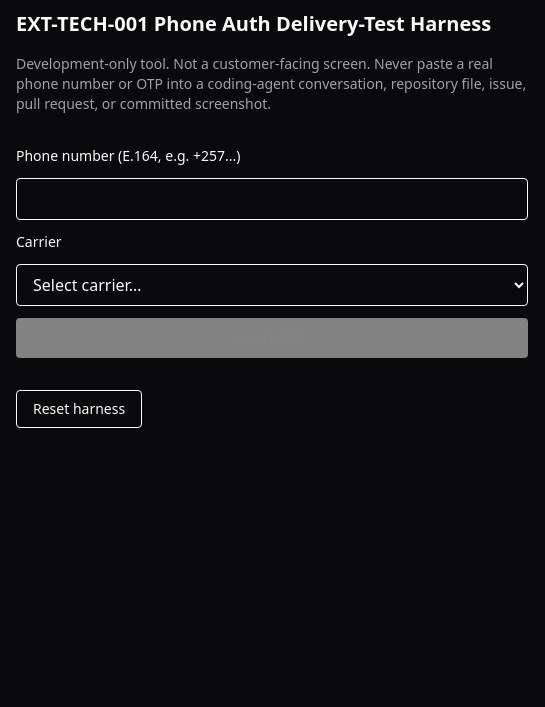
Test: PhoneAuthHarnessPage › masking › displays only a masked form of the number after submission, never the raw value again
Type "+25779123456" into the field labelled "Phone number (E.164, e.g. +257...)". click: (272, 199)
box: [16,178,528,220]
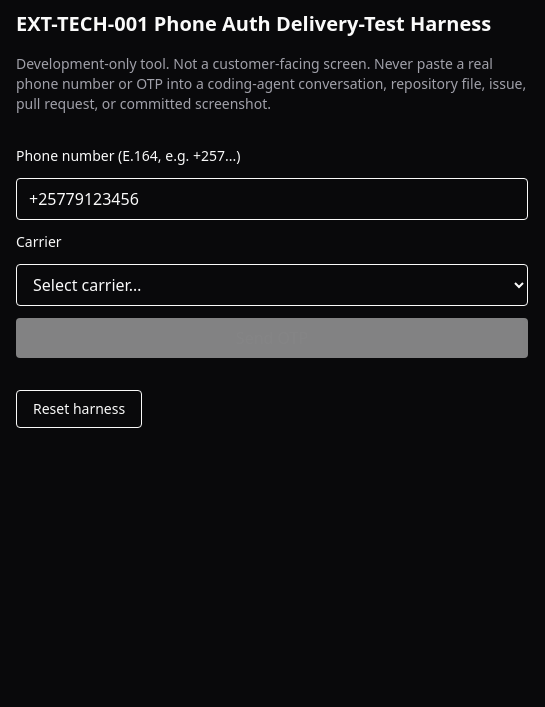
Select "Lumitel" in the dropdown labelled "Carrier". click: (272, 285)
box: [16,264,528,306]
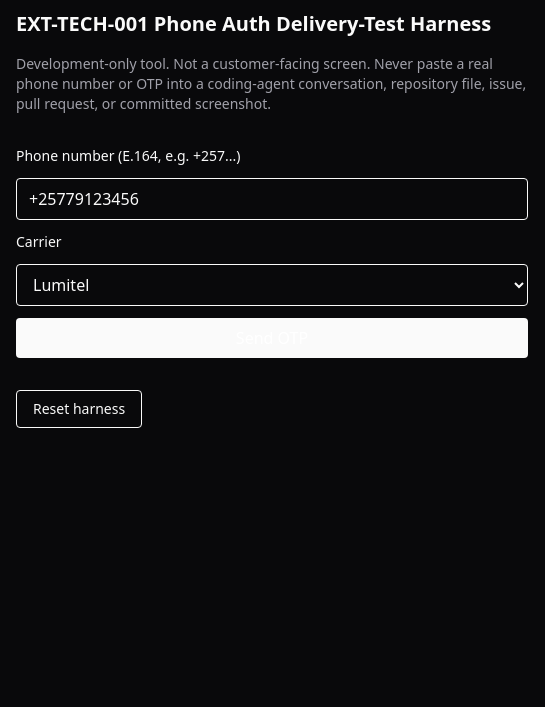
Click the button "Send OTP". click: (272, 338)
box: [16,318,528,358]
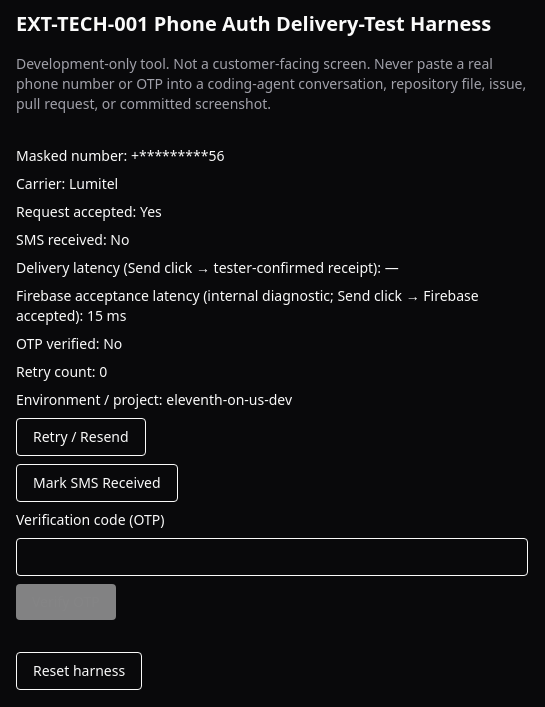
Expected: the field showing "+25779123456" is not shown
Expected: the text "Masked number: +*********56" is shown, [16,146,224,165]
